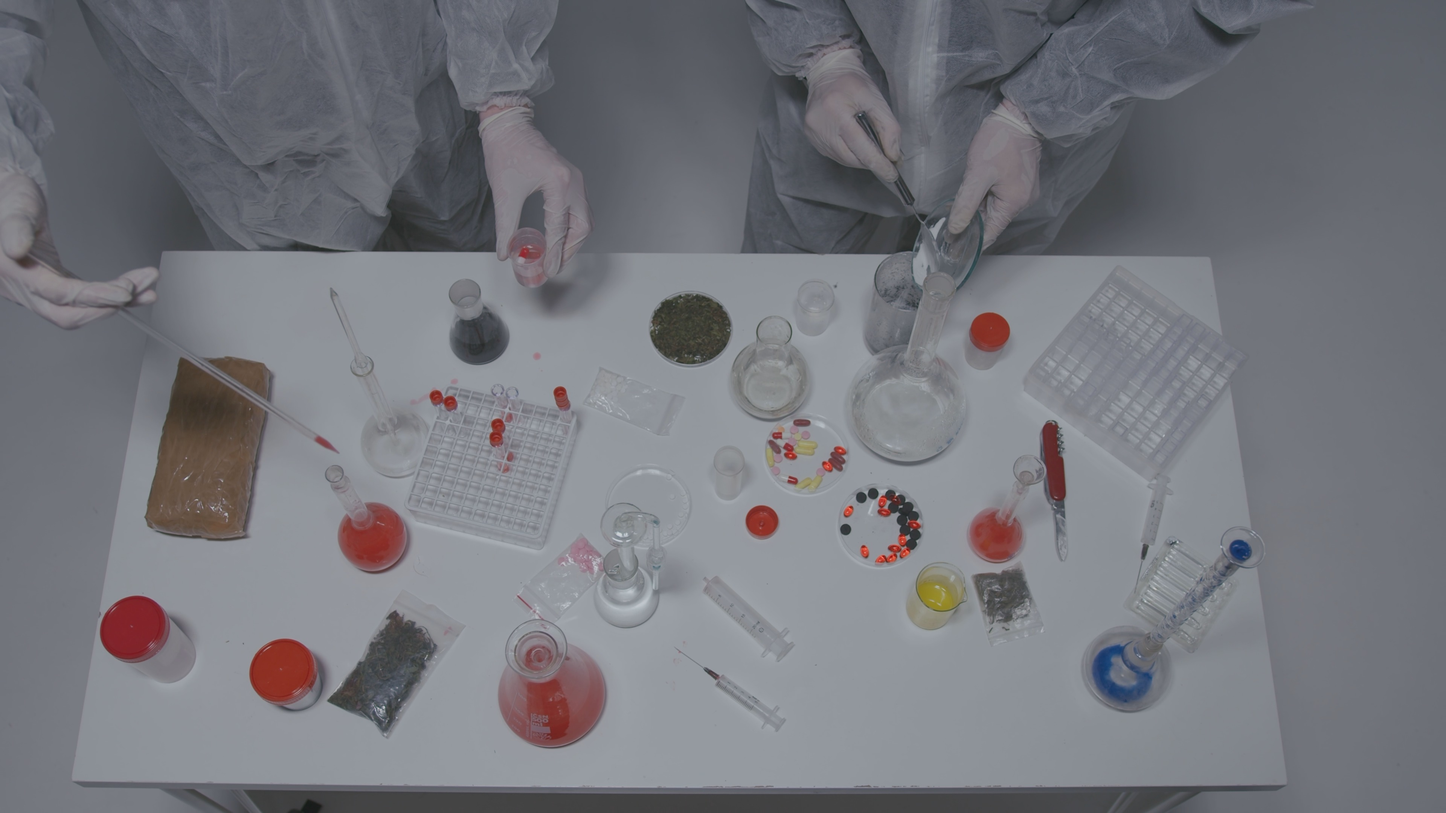gloves: (0, 186, 187, 337), (462, 97, 603, 283), (802, 51, 906, 192), (945, 99, 1036, 247)
